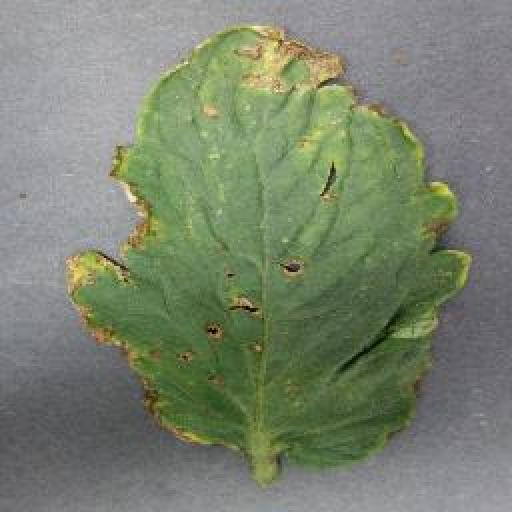Bacterial Spot: (56, 16, 479, 492)
